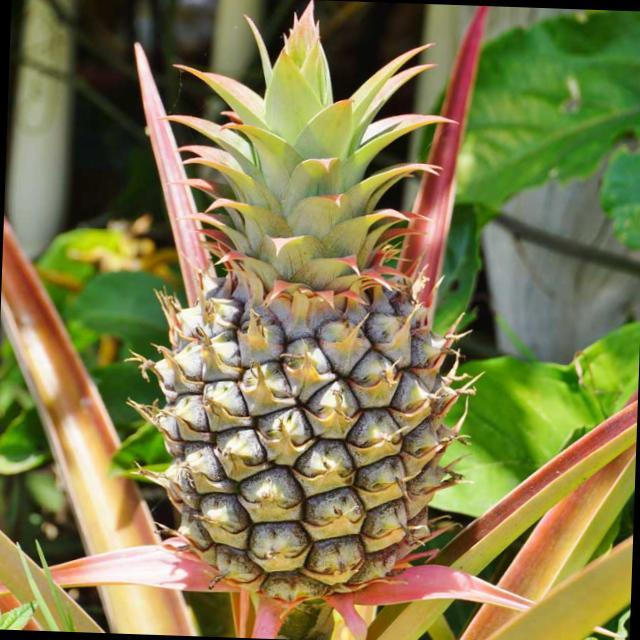PINEAPLE: (156, 12, 488, 606)
